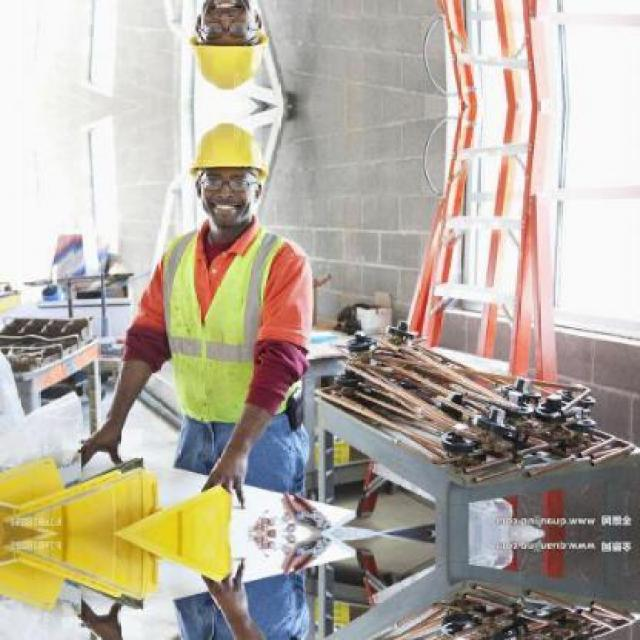Reflective-Jacket: (138, 222, 322, 432)
Safety-Helmet: (177, 112, 281, 192)
